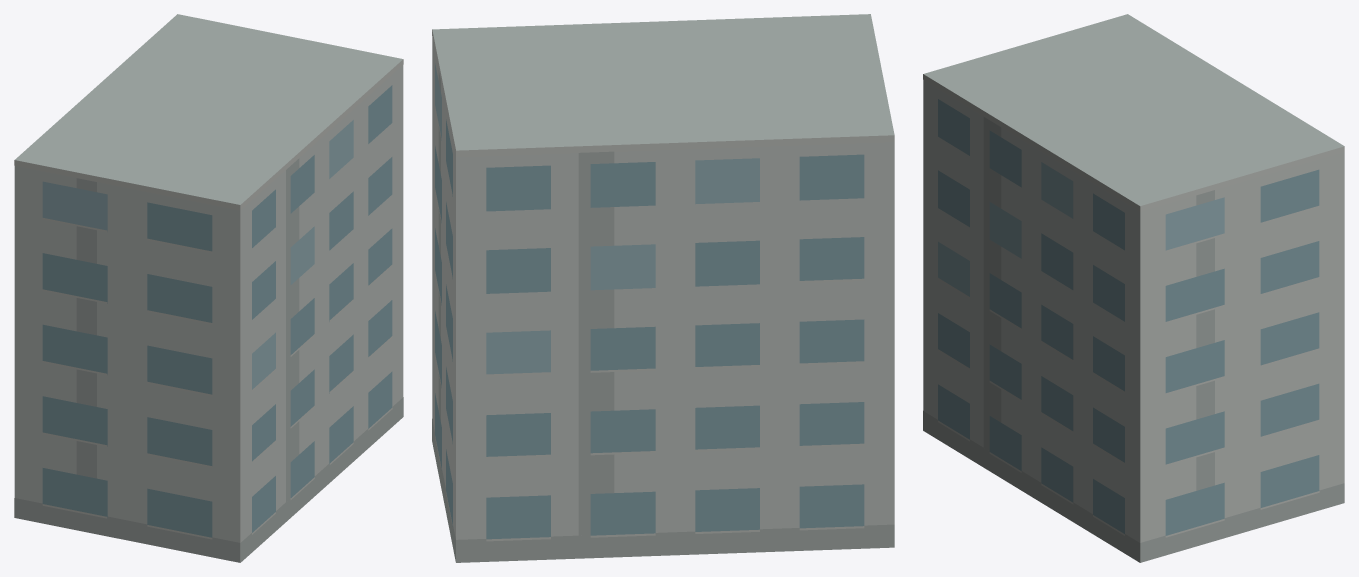
The model's file is residential-2ebcb336-d845-4963-ad77-2d71c76281dc.glb.
The picture shows the model from 3 angles, left to right: view 1: azimuth 30°, elevation 25°; view 2: azimuth 150°, elevation 25°; view 3: azimuth 270°, elevation 25°; orthographic projection. The views are drawn at different scales.
Visible parts, largest first — view 1: residential-2ebcb336-d845-4963-ad77-2d71c76281dc.tmp; view 2: residential-2ebcb336-d845-4963-ad77-2d71c76281dc.tmp; view 3: residential-2ebcb336-d845-4963-ad77-2d71c76281dc.tmp.
Boxes of the visible parts, x1=… form: residential-2ebcb336-d845-4963-ad77-2d71c76281dc.tmp: x1=14, y1=14, x2=403, y2=562; residential-2ebcb336-d845-4963-ad77-2d71c76281dc.tmp: x1=432, y1=14, x2=894, y2=562; residential-2ebcb336-d845-4963-ad77-2d71c76281dc.tmp: x1=923, y1=14, x2=1344, y2=562.
Size of the model in its own units: 17.63 by 15.25 by 16.34.
